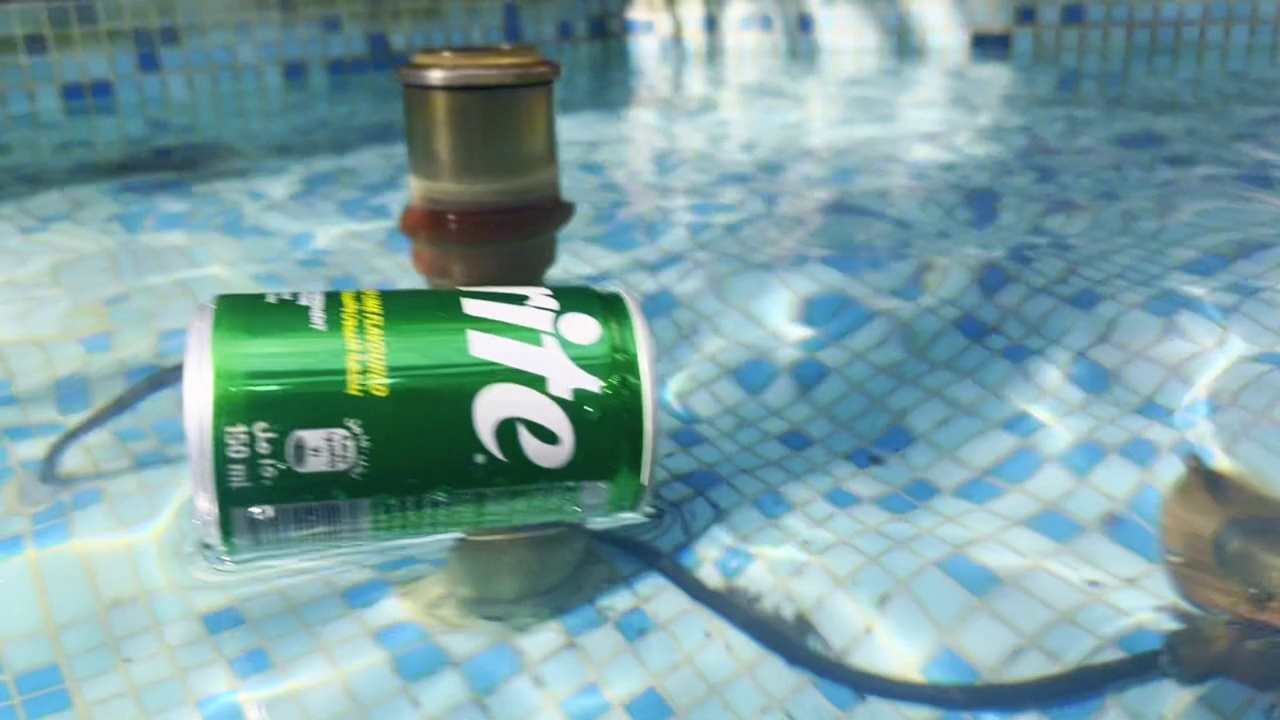debris: (165, 249, 667, 576)
